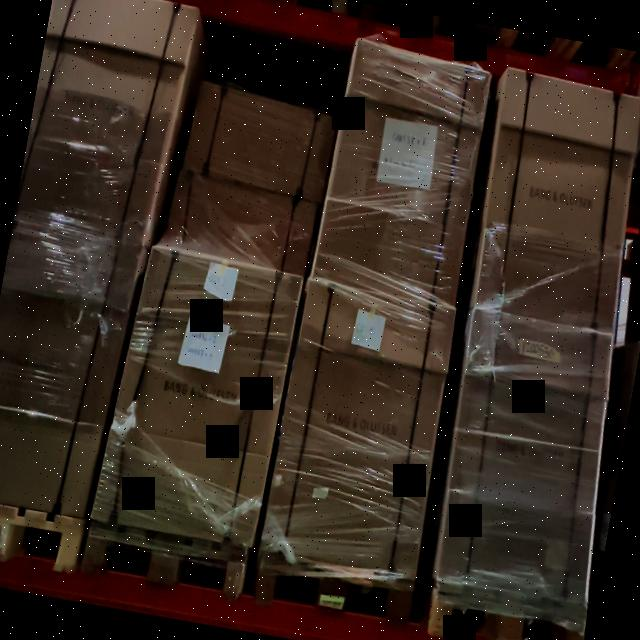box: (90, 248, 302, 545), (260, 280, 456, 570), (437, 306, 612, 606), (310, 38, 492, 307), (477, 67, 640, 338), (182, 81, 335, 201), (158, 172, 318, 276)
